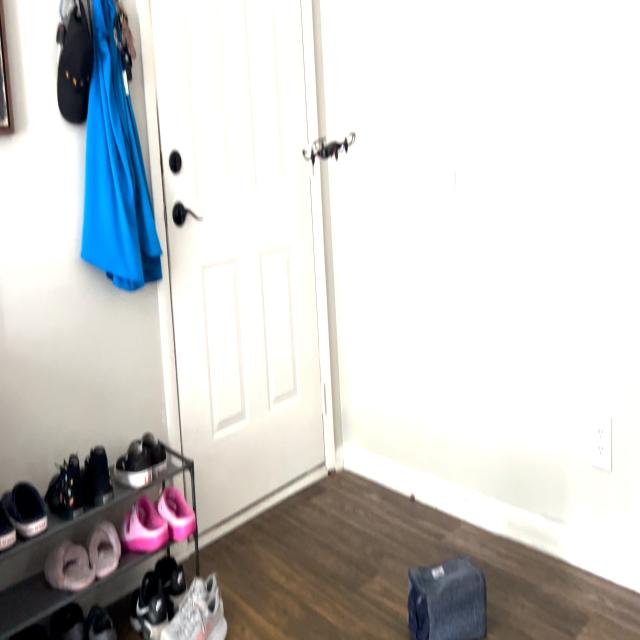drone: (296, 113, 364, 172)
